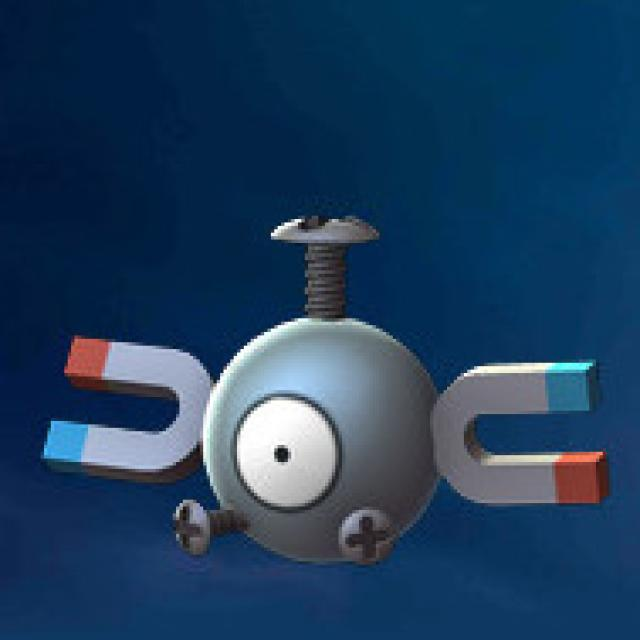Magnemite: (68, 316, 608, 573)
